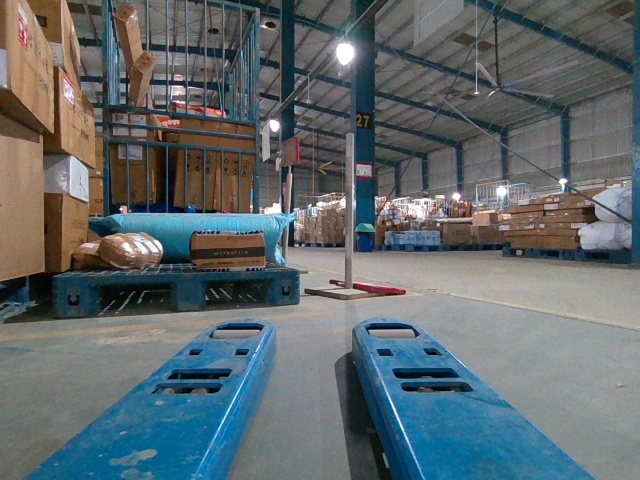block: (53, 275, 98, 314), (169, 272, 205, 309), (268, 271, 301, 302)
front: (53, 269, 300, 314)
hole pallet: (98, 284, 170, 314), (206, 279, 266, 305)
